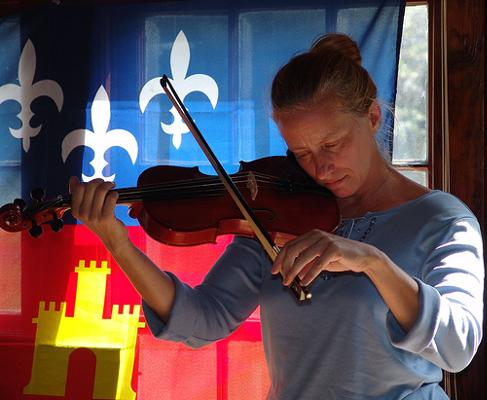person: (66, 34, 487, 400)
